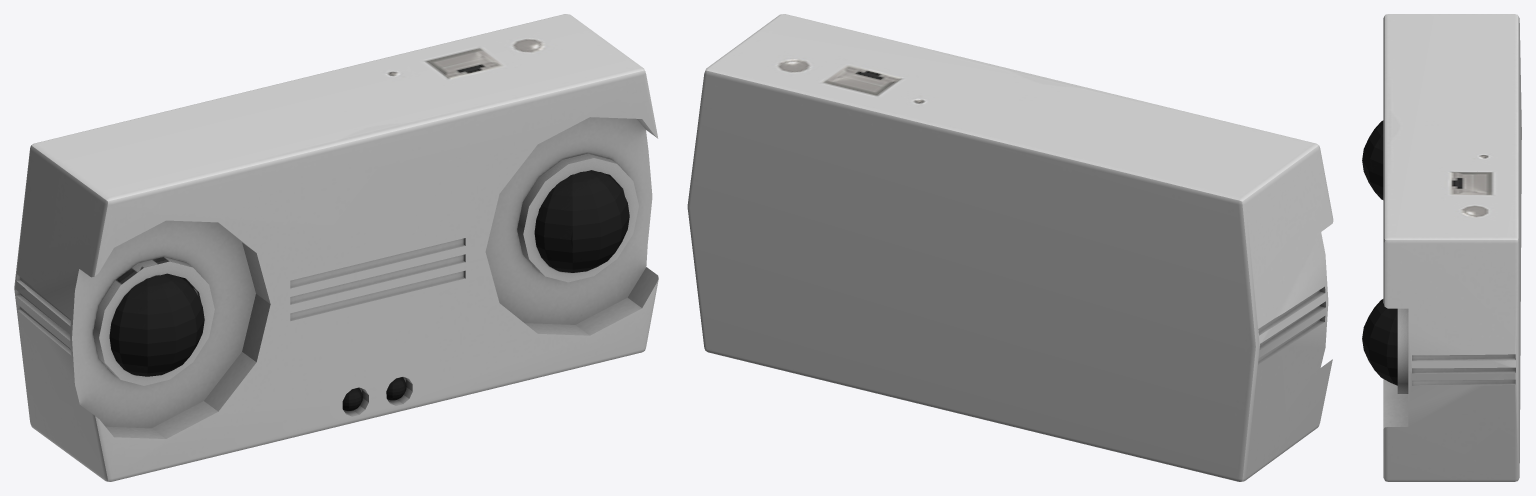
File: UCAM-3D.fbx
3 views of the same model, side by side, from view 1: azimuth 30°, elevation 25°; view 2: azimuth 150°, elevation 25°; view 3: azimuth 270°, elevation 25° (orthographic). The views are drawn at different scales.
Visible parts, largest first — view 1: B, A; view 2: B; view 3: B, A.
Boxes of the visible parts, x1=… form: B: x1=14, y1=14, x2=658, y2=481; A: x1=93, y1=153, x2=638, y2=410; B: x1=687, y1=14, x2=1333, y2=481; B: x1=1383, y1=14, x2=1521, y2=481; A: x1=1362, y1=120, x2=1408, y2=393.
Bounding box in the file's own units: 164 × 76.75 × 45.43.
Materials: 2 (2 with a texture image).
